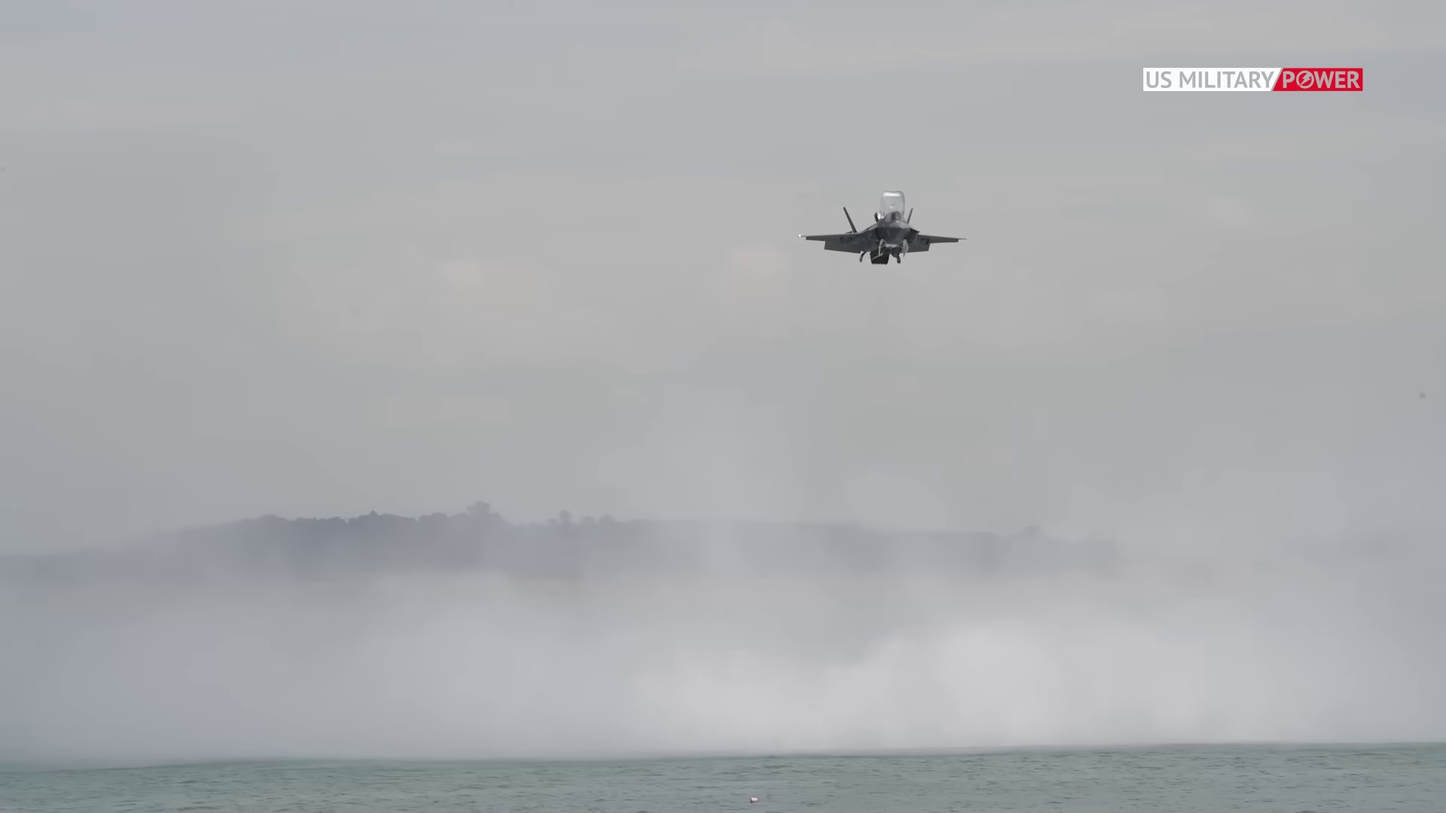F35: (802, 192, 966, 267)
